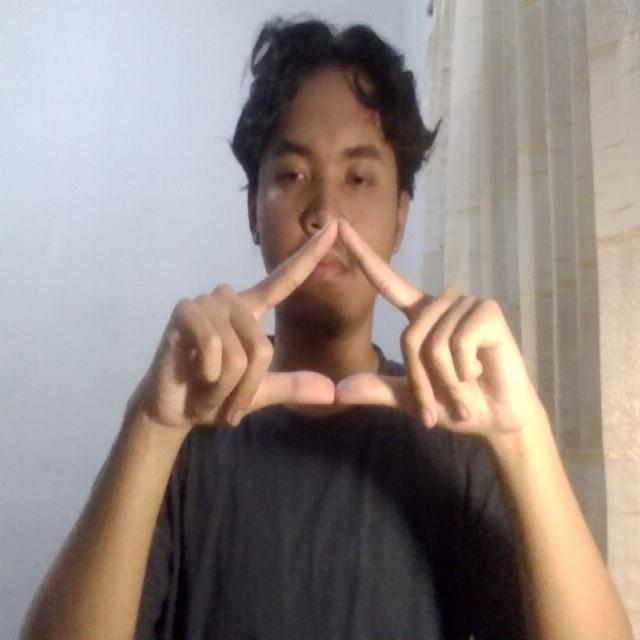A: (123, 203, 530, 447)
